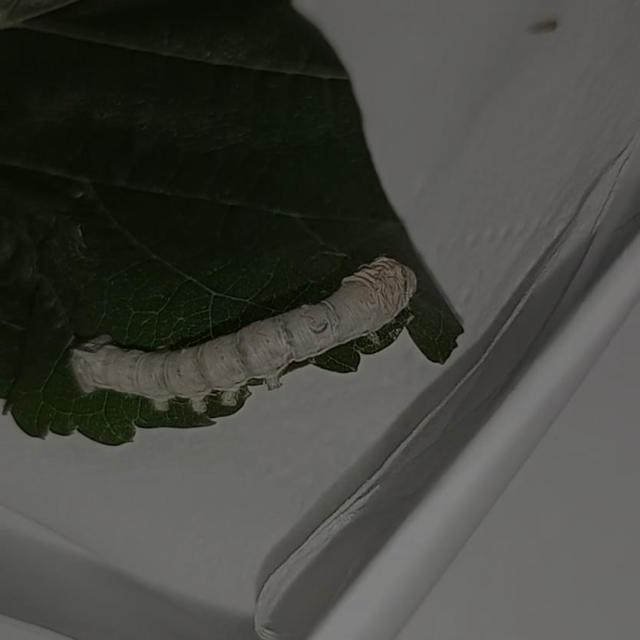Healthy: (63, 245, 453, 442)
